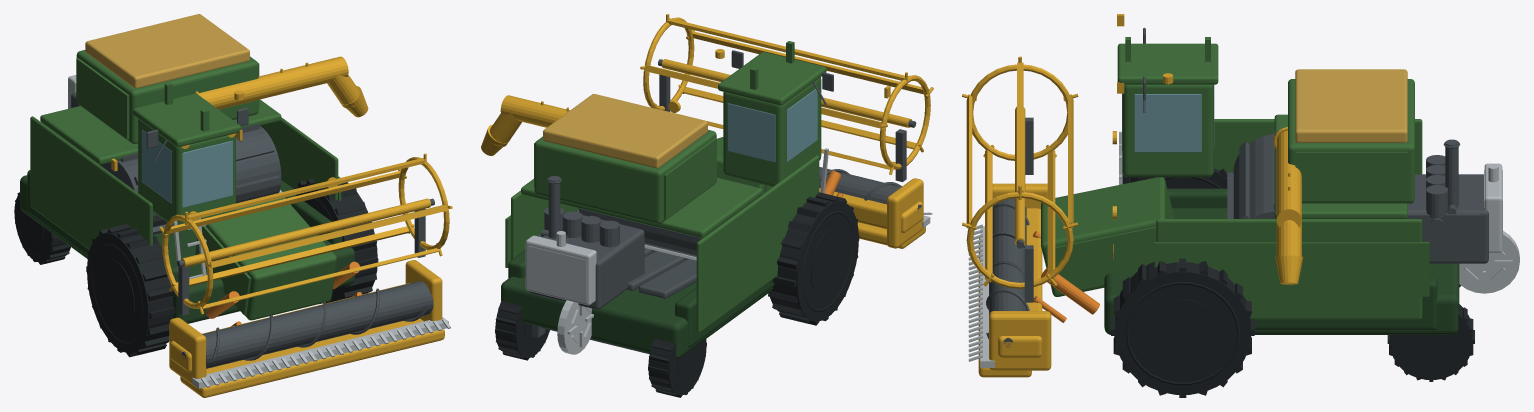
The model's file is combine_harvester.glb.
3 views of the same model, side by side, from view 1: azimuth 30°, elevation 25°; view 2: azimuth 150°, elevation 25°; view 3: azimuth 270°, elevation 25° (orthographic). The views are drawn at different scales.
Parts seen in each view (by area): view 1: body_panels, reel, front_wheels, feeder_house, header_auger, grain, header_frame, cab_shell, grain_tank, chassis, cab_glass, unloading_auger (+7 smaller); view 2: body_panels, grain_tank, reel, front_wheels, chassis, cab_shell, grain, engine, rear_wheels, radiator, cab_glass, header_frame (+9 smaller); view 3: body_panels, front_wheels, feeder_house, reel, cab_shell, grain, grain_tank, chassis, engine, header_frame, cab_glass, rear_wheels (+9 smaller).
Boxes of the visible parts, <box> form: body_panels: <box>30,99,341,249</box>; reel: <box>159,153,452,314</box>; front_wheels: <box>86,178,378,357</box>; feeder_house: <box>195,198,336,320</box>; header_auger: <box>181,281,433,368</box>; grain: <box>85,14,249,88</box>; header_frame: <box>169,260,444,397</box>; cab_shell: <box>132,82,240,226</box>; grain_tank: <box>76,50,259,143</box>; chassis: <box>20,170,354,323</box>; cab_glass: <box>141,129,232,207</box>; unloading_auger: <box>195,56,368,117</box>; body_panels: <box>505,155,819,332</box>; grain_tank: <box>534,129,716,223</box>; reel: <box>640,14,933,174</box>; front_wheels: <box>768,192,859,325</box>; chassis: <box>501,250,774,359</box>; cab_shell: <box>718,41,826,186</box>; grain: <box>543,94,707,168</box>; engine: <box>529,208,644,309</box>; rear_wheels: <box>495,300,706,397</box>; radiator: <box>525,231,596,305</box>; cab_glass: <box>727,89,817,162</box>; header_frame: <box>819,178,925,248</box>; body_panels: <box>1154,114,1429,319</box>; front_wheels: <box>1111,168,1254,397</box>; feeder_house: <box>1041,177,1174,296</box>; reel: <box>962,56,1078,288</box>; cab_shell: <box>1117,37,1218,177</box>; grain: <box>1295,69,1407,142</box>; grain_tank: <box>1288,79,1414,203</box>; chassis: <box>1104,188,1459,334</box>; engine: <box>1407,155,1488,263</box>; header_frame: <box>978,183,1051,377</box>; cab_glass: <box>1122,85,1214,152</box>; rear_wheels: <box>1387,284,1474,381</box>.
Bounding box in the file's own units: 2.85 × 2.02 × 3.77.
